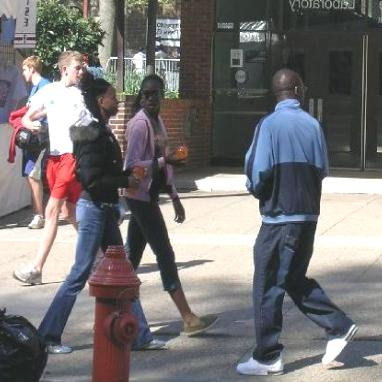ped: (239, 69, 359, 374), (41, 72, 167, 352), (121, 76, 220, 337), (15, 51, 87, 283)
